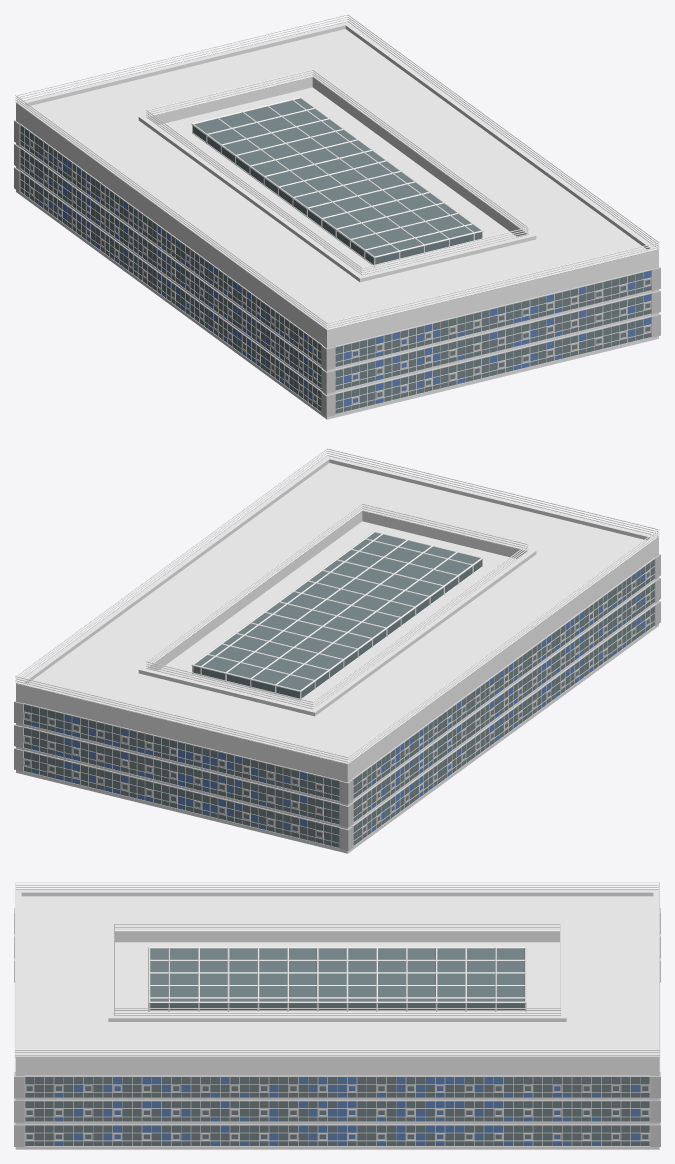
The model's file is model.original.glb.
The picture shows the model from 3 angles, top to bottom: view 1: azimuth 30°, elevation 25°; view 2: azimuth 150°, elevation 25°; view 3: azimuth 270°, elevation 25°; orthographic projection. The views are drawn at different scales.
Parts seen in each view (by area): view 1: Slabs, Glass, Frame, Rails, Walls; view 2: Slabs, Glass, Frame, Rails, Walls; view 3: Slabs, Glass, Frame, Rails, Walls.
Part boxes in pixels (bbox=[...]): Slabs: bbox=[16, 22, 658, 419]; Glass: bbox=[20, 98, 650, 413]; Frame: bbox=[19, 97, 651, 414]; Rails: bbox=[15, 14, 659, 330]; Walls: bbox=[14, 120, 660, 416]; Slabs: bbox=[16, 456, 658, 853]; Glass: bbox=[24, 532, 654, 847]; Frame: bbox=[23, 531, 655, 848]; Rails: bbox=[15, 448, 659, 764]; Walls: bbox=[14, 554, 660, 850]; Slabs: bbox=[15, 890, 659, 1149]; Glass: bbox=[25, 948, 649, 1145]; Frame: bbox=[14, 912, 660, 1146]; Rails: bbox=[15, 882, 659, 1057]; Walls: bbox=[14, 908, 660, 1146].
Bounding box in the file's own units: 0.4034 × 0.1115 × 0.6534.
